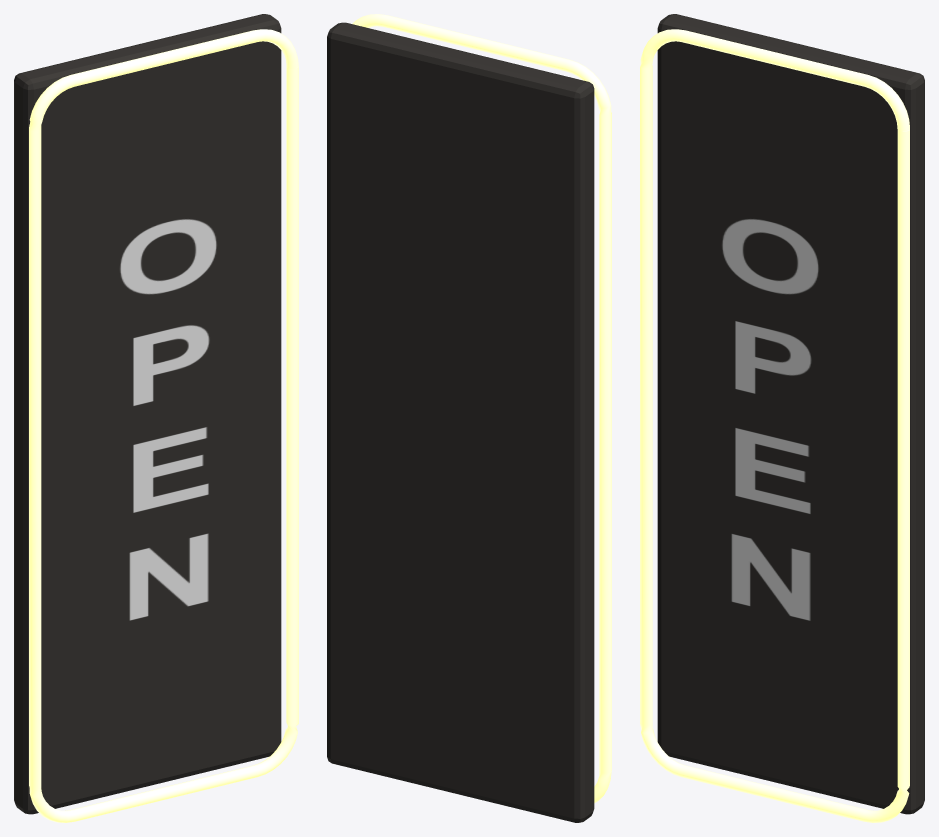
File: MS_AT_10_NeonVertical.glb
The picture shows the model from 3 angles, left to right: view 1: azimuth 30°, elevation 25°; view 2: azimuth 150°, elevation 25°; view 3: azimuth 330°, elevation 25°; orthographic projection.
Visible parts, largest first — view 1: SignBacking.004, NeonTube.002, ReplaceableGraphic.002; view 2: SignBacking.004, NeonTube.002; view 3: SignBacking.004, NeonTube.002, ReplaceableGraphic.002.
Boxes of the visible parts, x1=… form: SignBacking.004: x1=14, y1=14, x2=281, y2=814; NeonTube.002: x1=29, y1=29, x2=298, y2=822; ReplaceableGraphic.002: x1=120, y1=219, x2=216, y2=620; SignBacking.004: x1=327, y1=22, x2=594, y2=822; NeonTube.002: x1=352, y1=14, x2=611, y2=803; SignBacking.004: x1=657, y1=14, x2=924, y2=814; NeonTube.002: x1=640, y1=29, x2=909, y2=822; ReplaceableGraphic.002: x1=722, y1=219, x2=818, y2=620.
Bounding box in the file's own units: 0.574 × 1.52 × 0.107.
3 materials, 1 textured.
